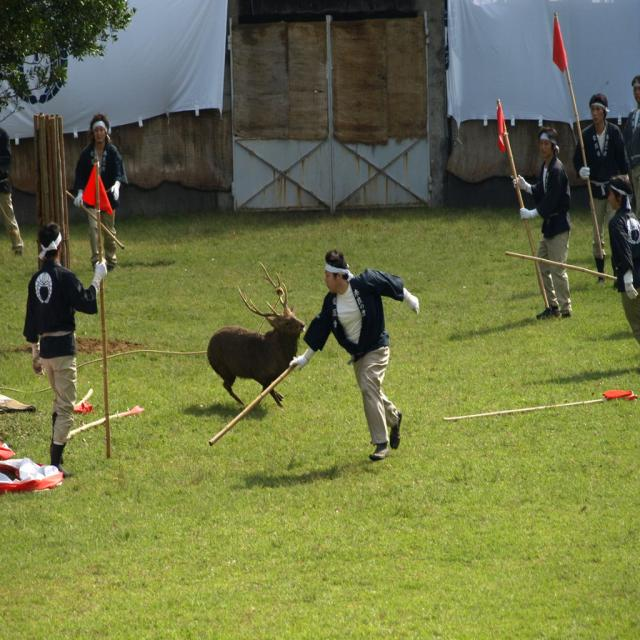Deer: (206, 260, 306, 410)
